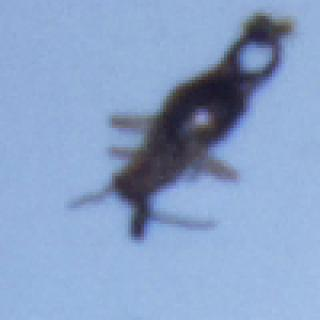earwig: (61, 17, 281, 245)
